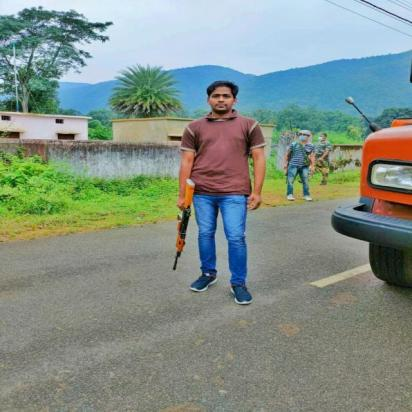Gun: (172, 178, 196, 272)
